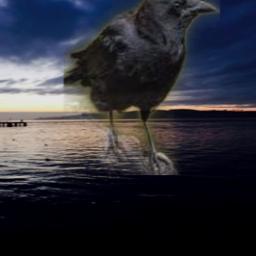Crow: (64, 0, 220, 175)
